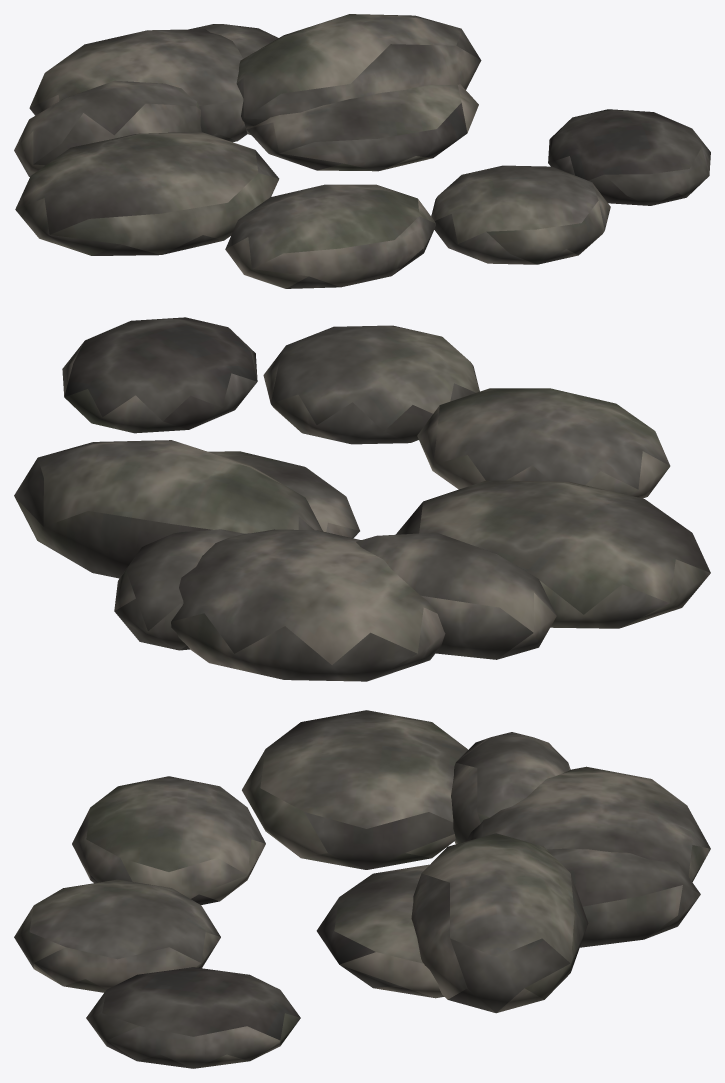
The model's file is pebble_cluster_01.glb.
3 views of the same model, one above another, from view 1: azimuth 30°, elevation 25°; view 2: azimuth 150°, elevation 25°; view 3: azimuth 270°, elevation 25° (orthographic). The views are drawn at different scales.
Parts seen in each view (by area): view 1: Pebble_Cluster_01; view 2: Pebble_Cluster_01; view 3: Pebble_Cluster_01.
Boxes of the visible parts, x1,y1,x2,y2 form: Pebble_Cluster_01: [14, 14, 710, 288]; Pebble_Cluster_01: [14, 317, 710, 681]; Pebble_Cluster_01: [14, 710, 710, 1068].
Bounding box in the file's own units: 0.3189 × 0.045 × 0.2928.
Materials: 1 (1 with a texture image).
